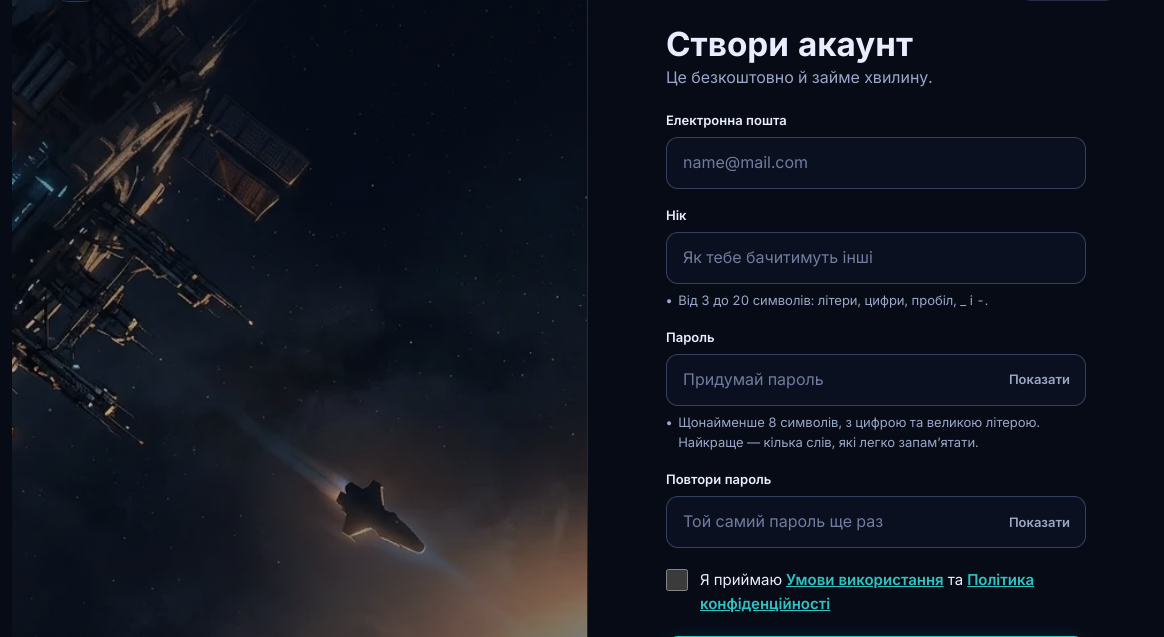
RegisterPage › registers and continues to the check-email screen
Type "pilot@example.test" into the field labelled "Електронна пошта". click: (876, 163)
box: 666,137 -> 1086,189
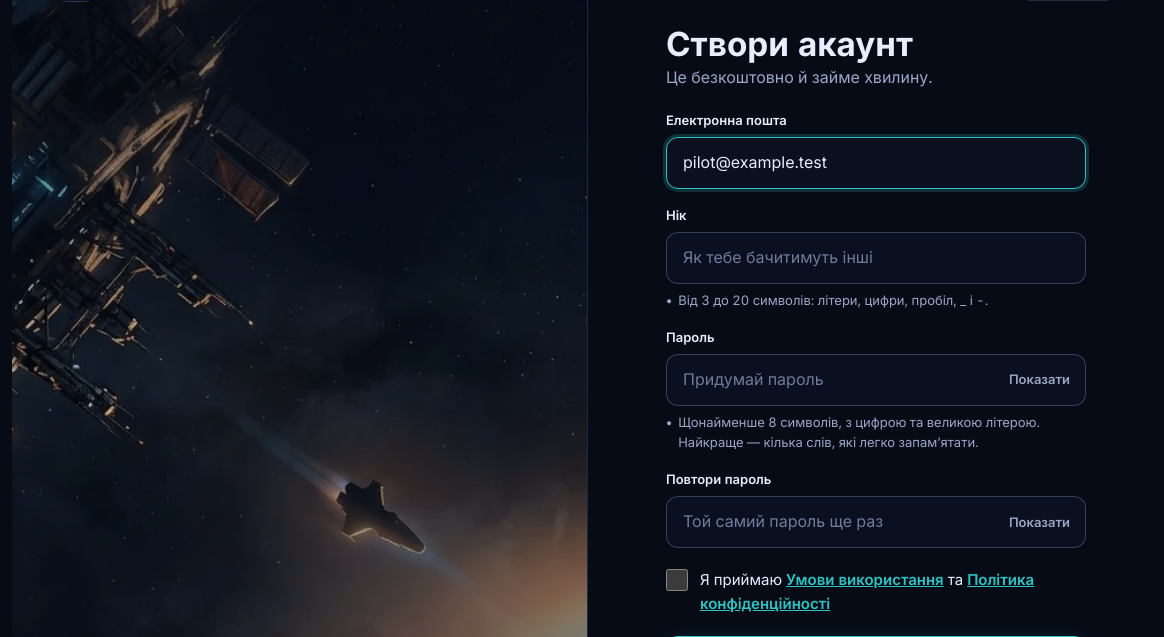
Type "Pilot One" into the field labelled "Нік". click: (876, 258)
box: 666,232 -> 1086,284
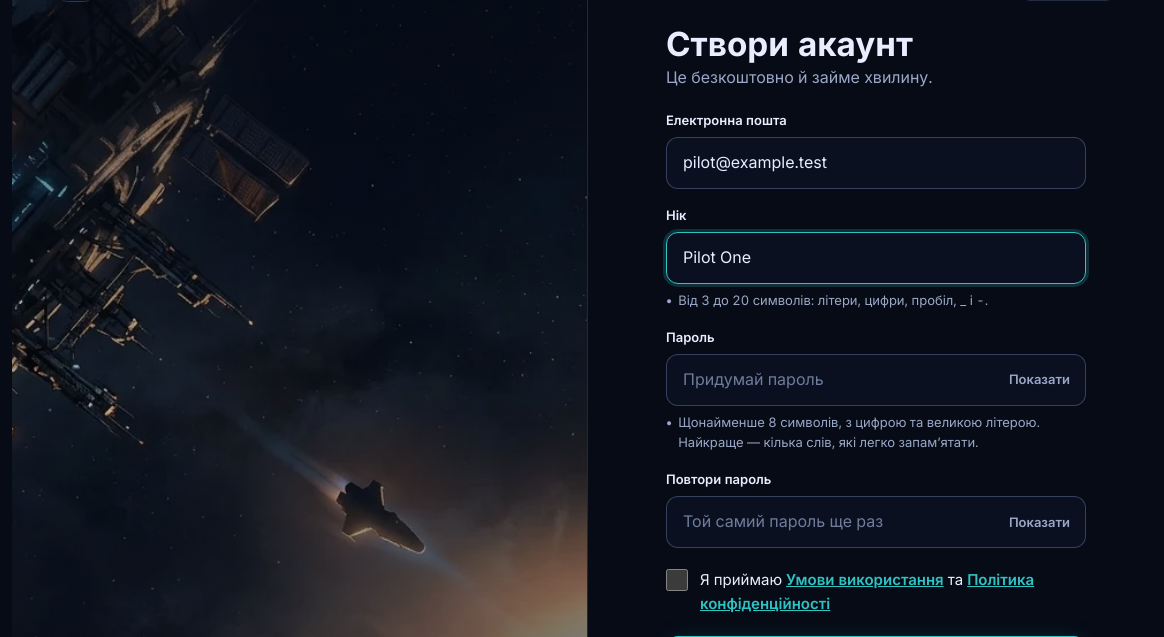
Type "Violet-harbor-lantern-42" into the password field labelled "Пароль". click: (876, 380)
box: 666,354 -> 1086,406
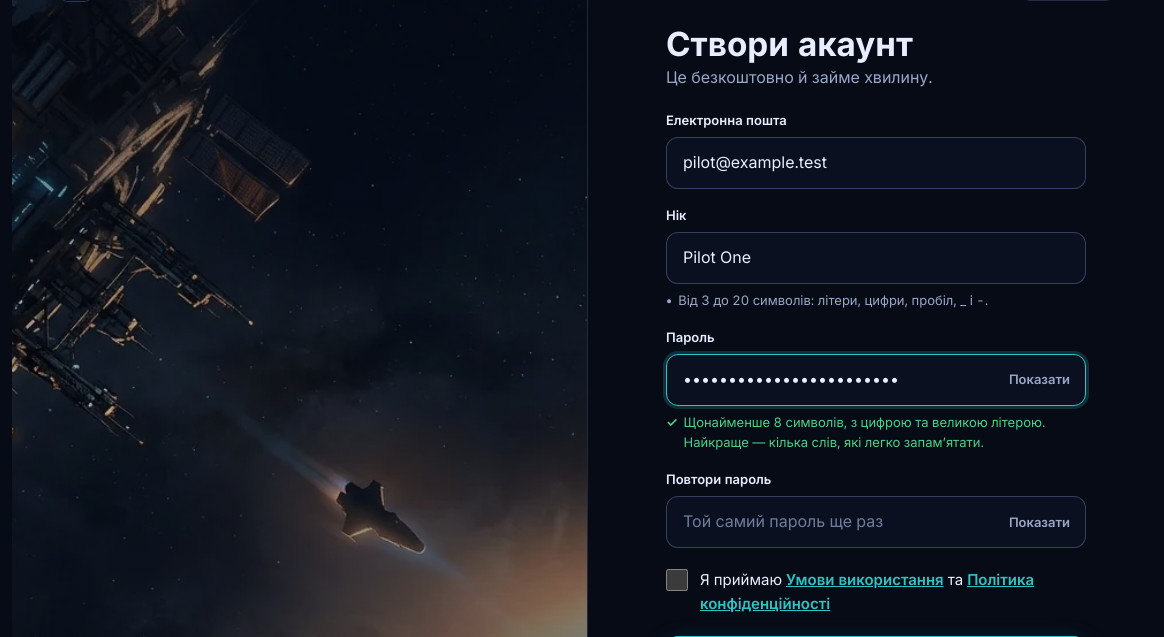
Type "Violet-harbor-lantern-42" into the password field labelled "Повтори пароль". click: (876, 522)
box: 666,496 -> 1086,548
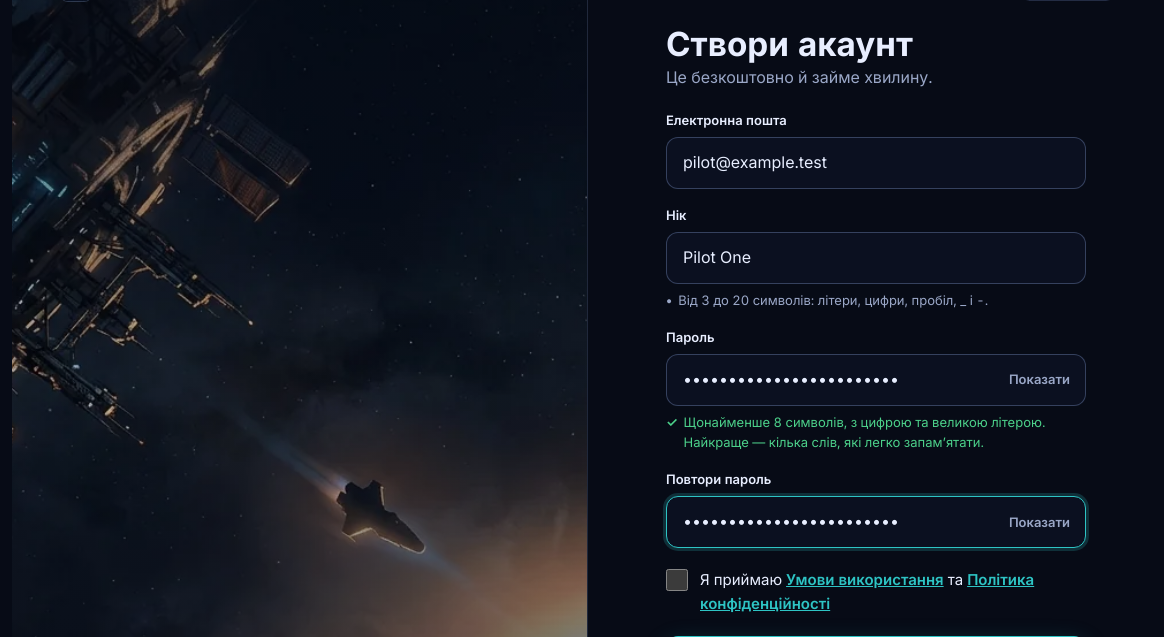
Click the checkbox. click: (677, 580)
box: 666,569 -> 688,591
(page scrolled)
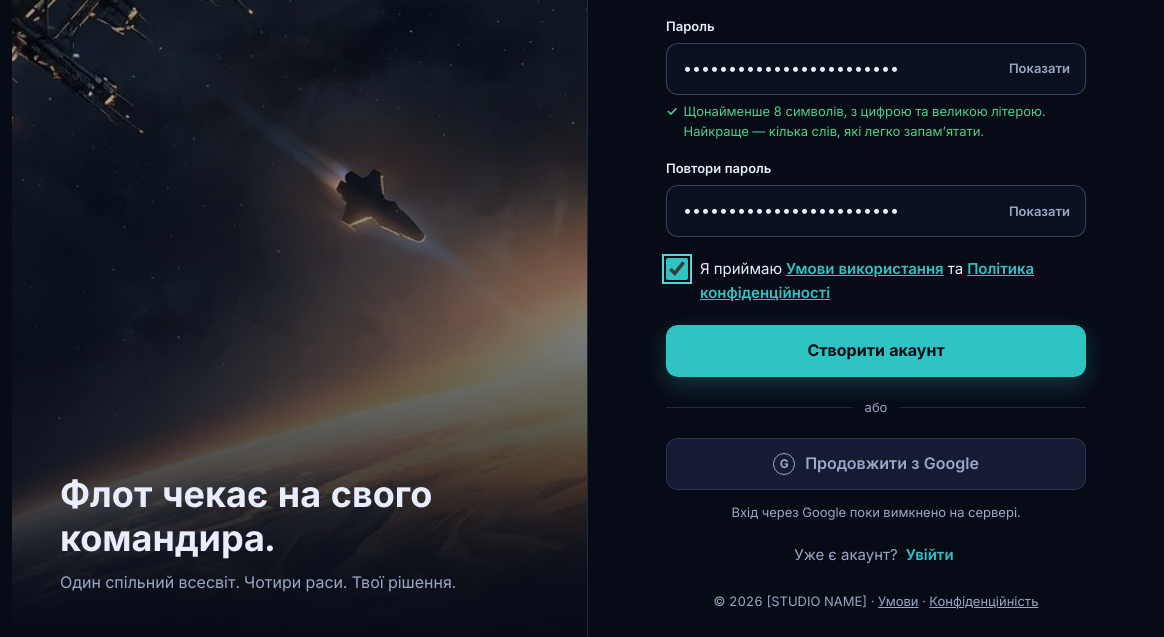
Click the button "Створити акаунт". click: (876, 351)
box: 666,325 -> 1086,377
(page scrolled)
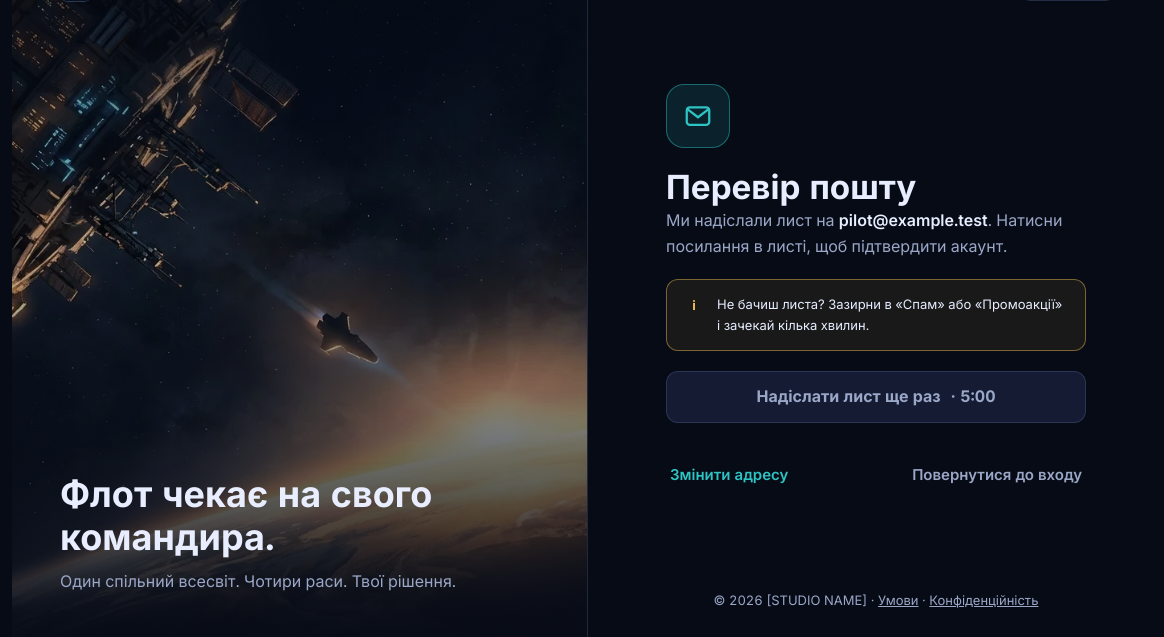
Expected: the text "pilot@example.test" is shown, 839,210 -> 988,230
